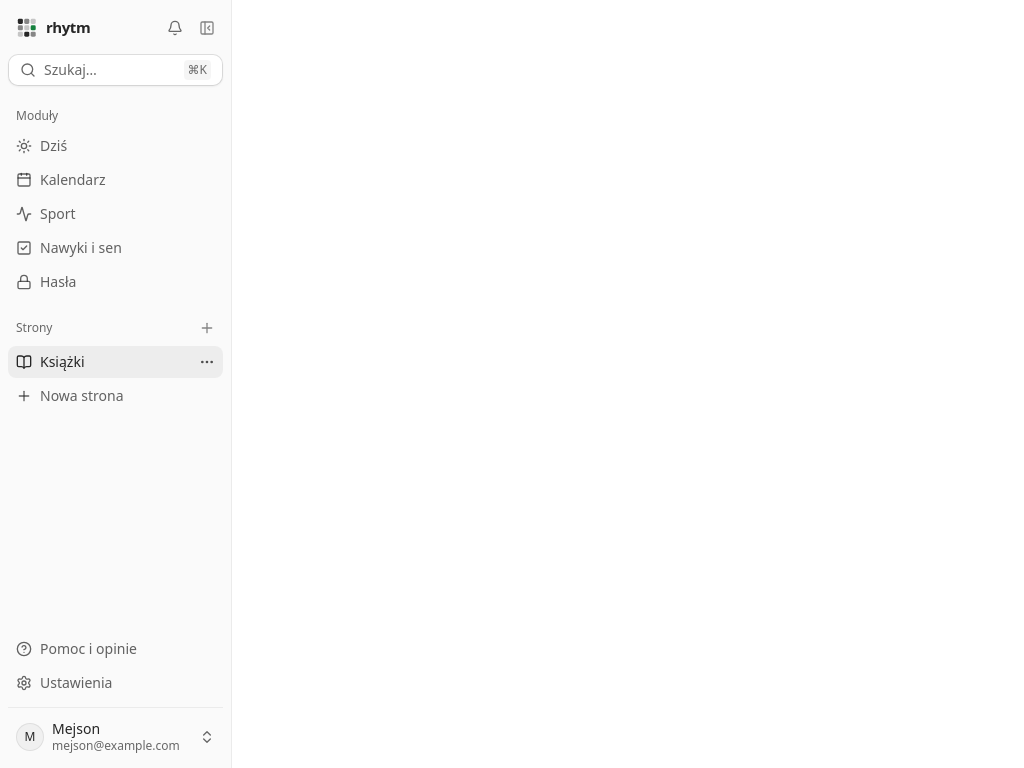
it: AppSidebar › S2PageMenu: menu „⋯” strony w pasku ma pozycje z makiety w kolejności
Click the button named "Menu strony Książki".
click(207, 362)  # box [195, 350, 219, 374]
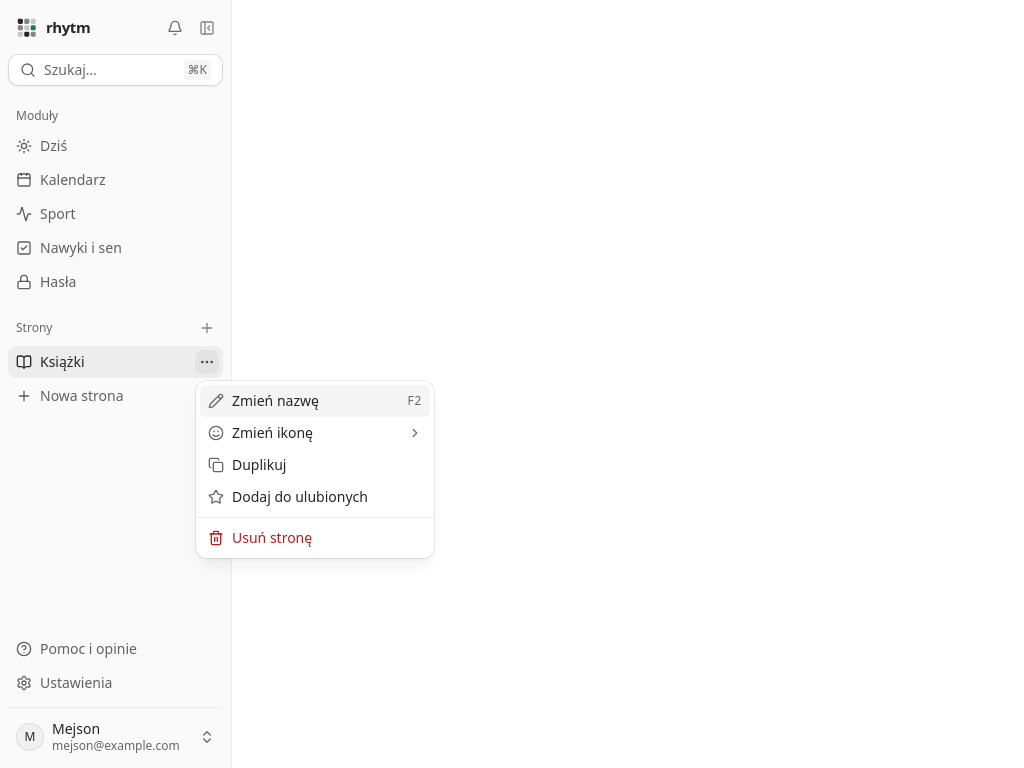
Check: the menu items read "Zmień nazwęF2", "Zmień ikonę", "Duplikuj", "Dodaj do ulubionych", "Usuń stronę", in this order, box [200, 385, 430, 417]; [200, 417, 430, 449]; [200, 449, 430, 481]; [200, 481, 430, 513]; [200, 522, 430, 554]
